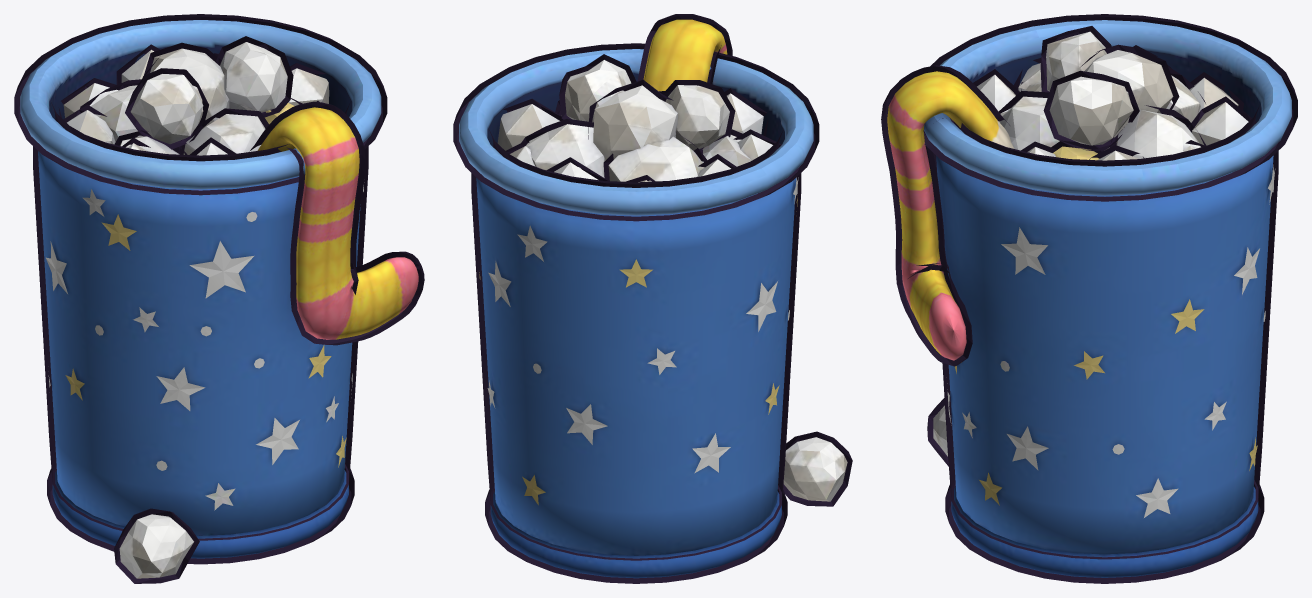
File: TrashCan.glb
3 views of the same model, side by side, from view 1: azimuth 30°, elevation 25°; view 2: azimuth 150°, elevation 25°; view 3: azimuth 270°, elevation 25° (orthographic). The views are drawn at different scales.
Parts seen in each view (by area): view 1: TrashCan, TrashCan_Outline; view 2: TrashCan, TrashCan_Outline; view 3: TrashCan, TrashCan_Outline.
Part boxes in pixels (x1=…): TrashCan: x1=20, y1=20, x2=418, y2=578; TrashCan_Outline: x1=14, y1=14, x2=424, y2=583; TrashCan: x1=459, y1=19, x2=847, y2=578; TrashCan_Outline: x1=453, y1=14, x2=852, y2=583; TrashCan: x1=887, y1=20, x2=1291, y2=577; TrashCan_Outline: x1=881, y1=14, x2=1297, y2=583.
Bounding box in the file's own units: 4.48 × 5.99 × 4.81.
Materials: 2 (2 with a texture image).
